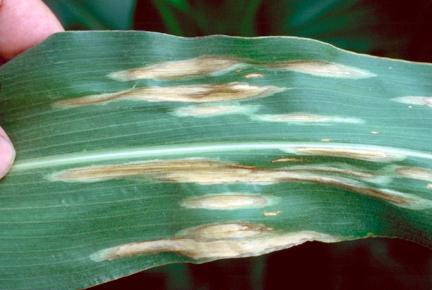Corn leaf blight: (23, 37, 432, 264)
